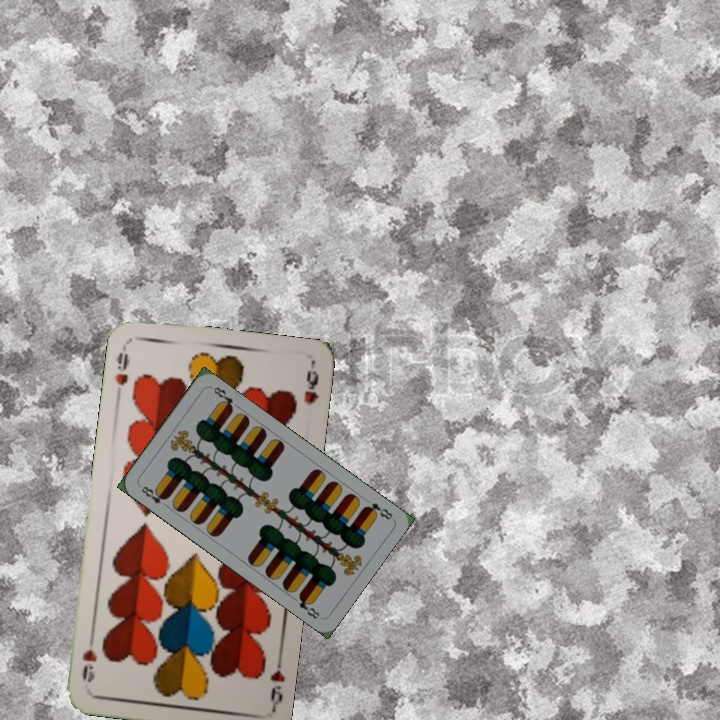E8: (359, 494, 395, 522), (137, 482, 171, 510)
H9: (266, 652, 287, 711), (110, 341, 131, 400)
